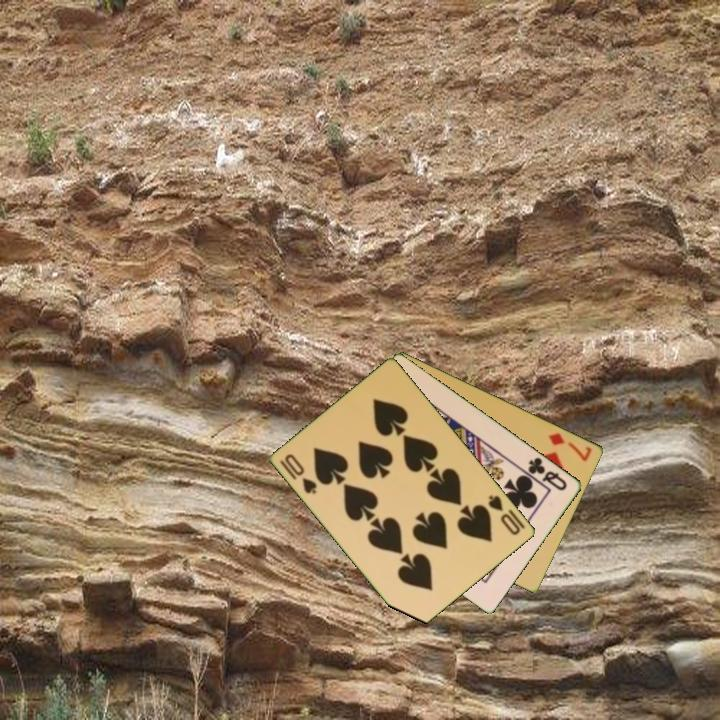10s: (277, 450, 320, 497), (485, 491, 523, 538)
7d: (545, 429, 595, 464)
Qc: (525, 453, 570, 494)
